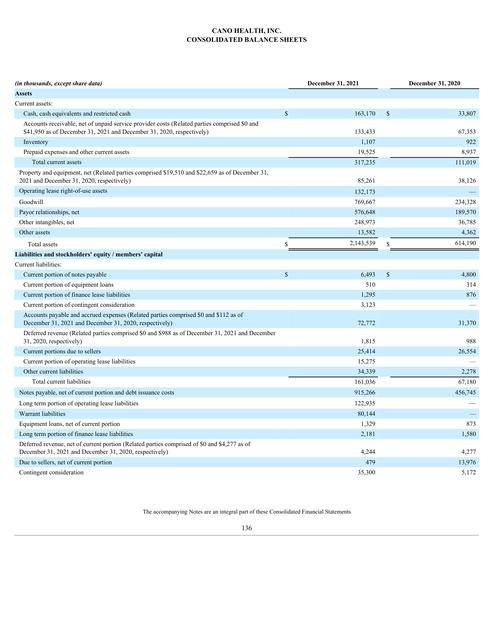box: (11, 78, 479, 479)
